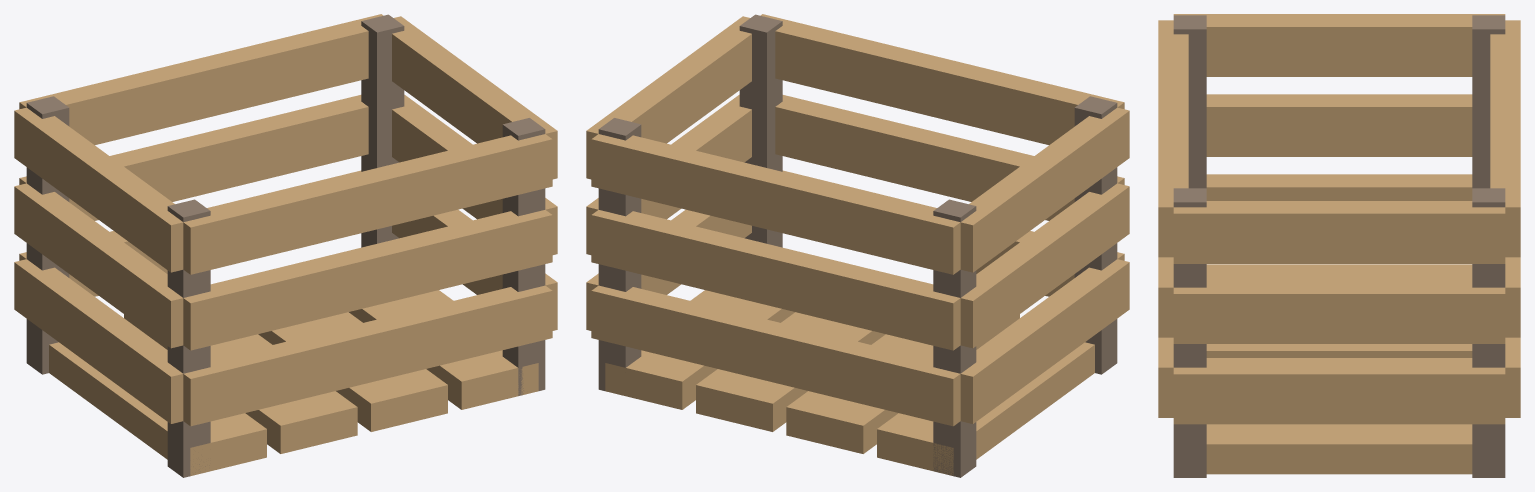
Rendered from harvest-hearth-slatted-produce-crate__64.glb.
The picture shows the model from 3 angles, left to right: view 1: azimuth 30°, elevation 25°; view 2: azimuth 150°, elevation 25°; view 3: azimuth 270°, elevation 25°; orthographic projection. The views are drawn at different scales.
Visible parts, largest first — view 1: harvest-hearth-harvest-crate; view 2: harvest-hearth-harvest-crate; view 3: harvest-hearth-harvest-crate.
Boxes of the visible parts, left/top/right/bottom form: harvest-hearth-harvest-crate: left=14, top=14, right=557, bottom=477; harvest-hearth-harvest-crate: left=586, top=14, right=1129, bottom=477; harvest-hearth-harvest-crate: left=1158, top=14, right=1520, bottom=477.
Size of the model in its own units: 0.855 by 0.55 by 0.655.
